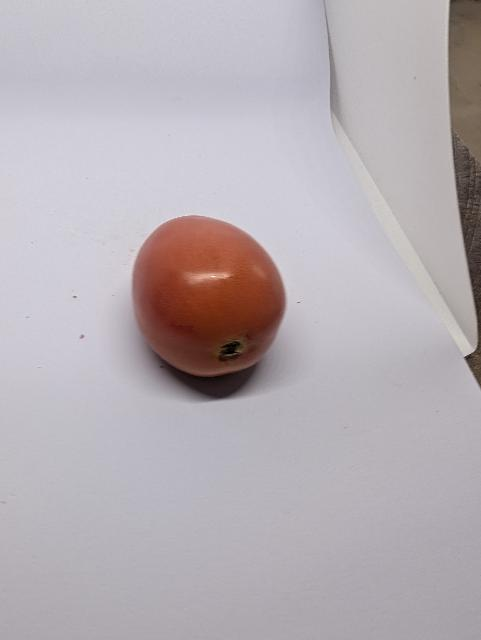red: (130, 213, 289, 380)
